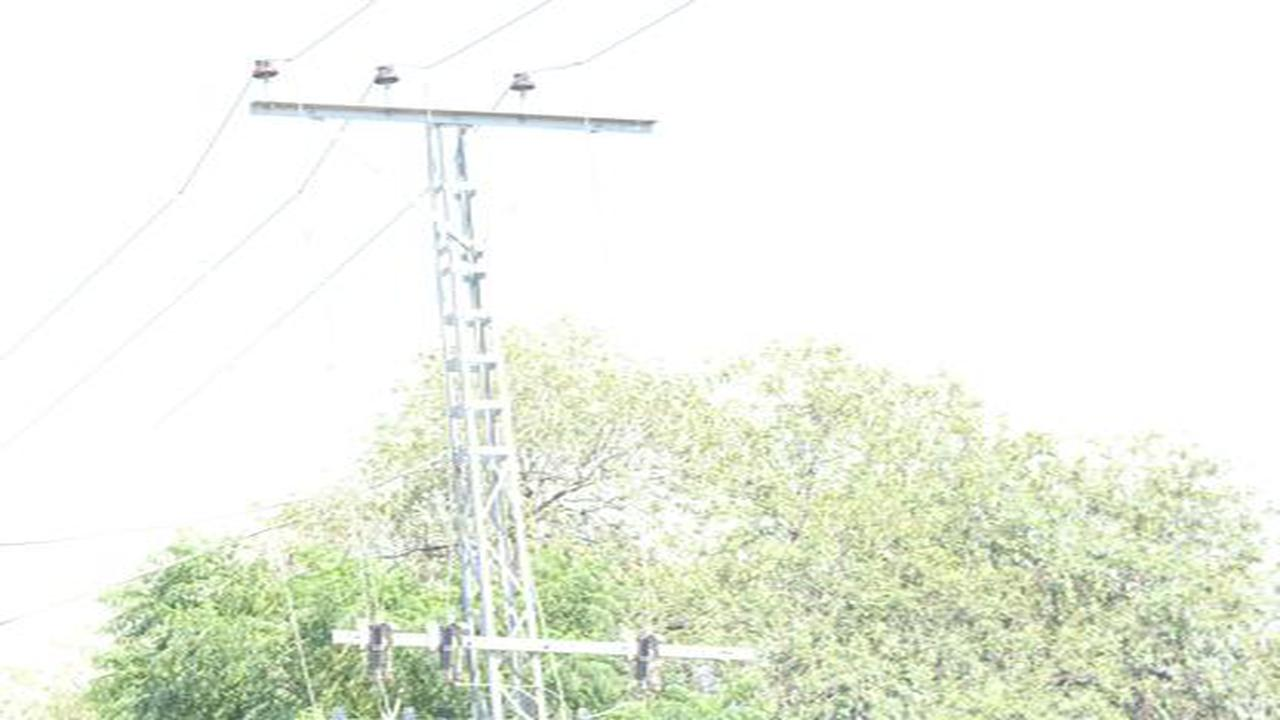insulator_pin: (370, 57, 405, 95), (251, 51, 284, 86), (508, 69, 541, 101)
